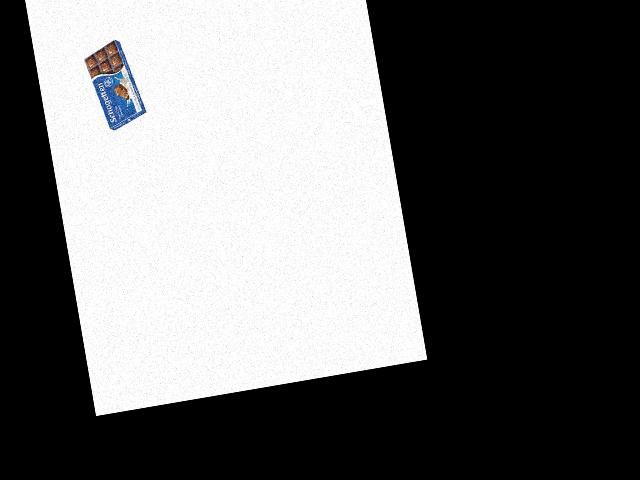chocolate: (81, 36, 141, 135)
